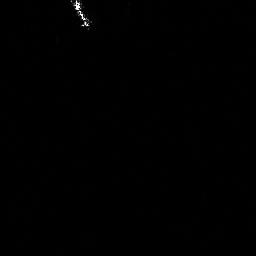ship: (66, 1, 95, 32)
